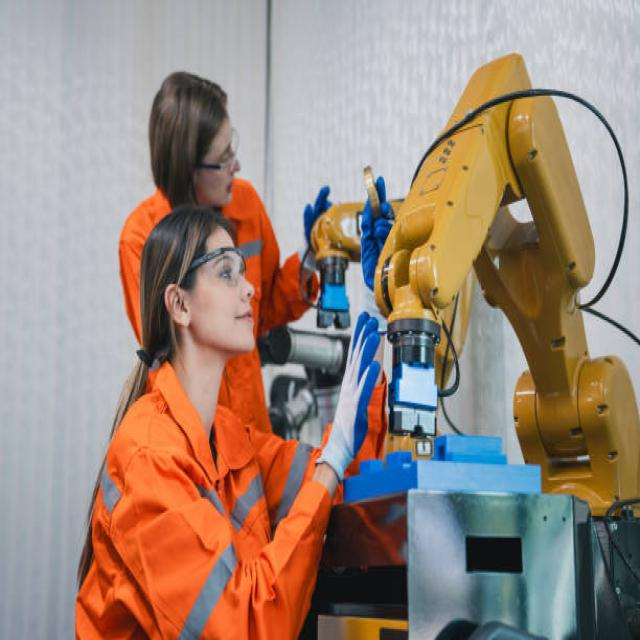Robotic-arm: (376, 46, 640, 508), (310, 183, 396, 327)
